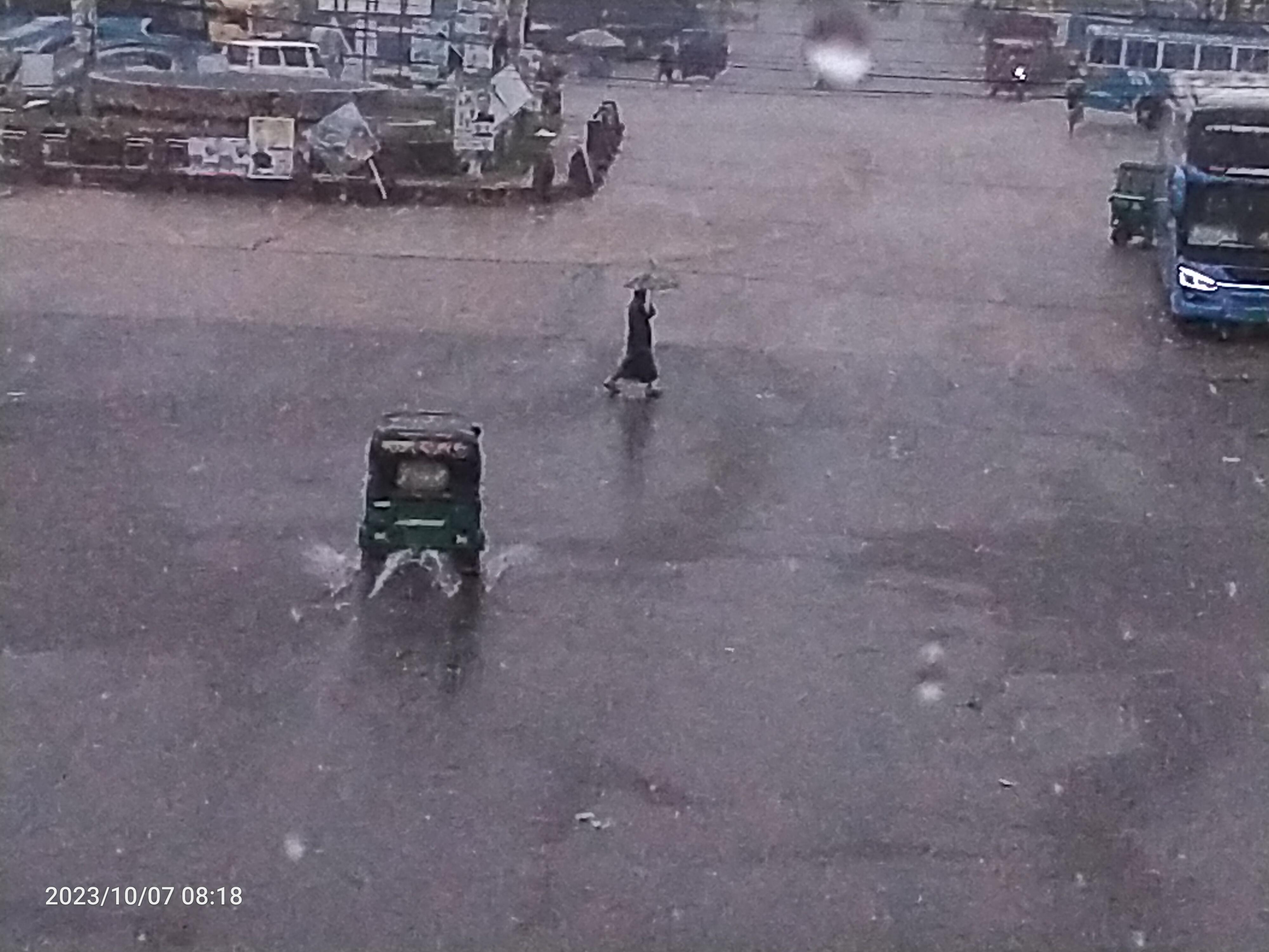Bus: (1150, 45, 1269, 355), (1069, 6, 1269, 137)
Car: (200, 21, 346, 107)
